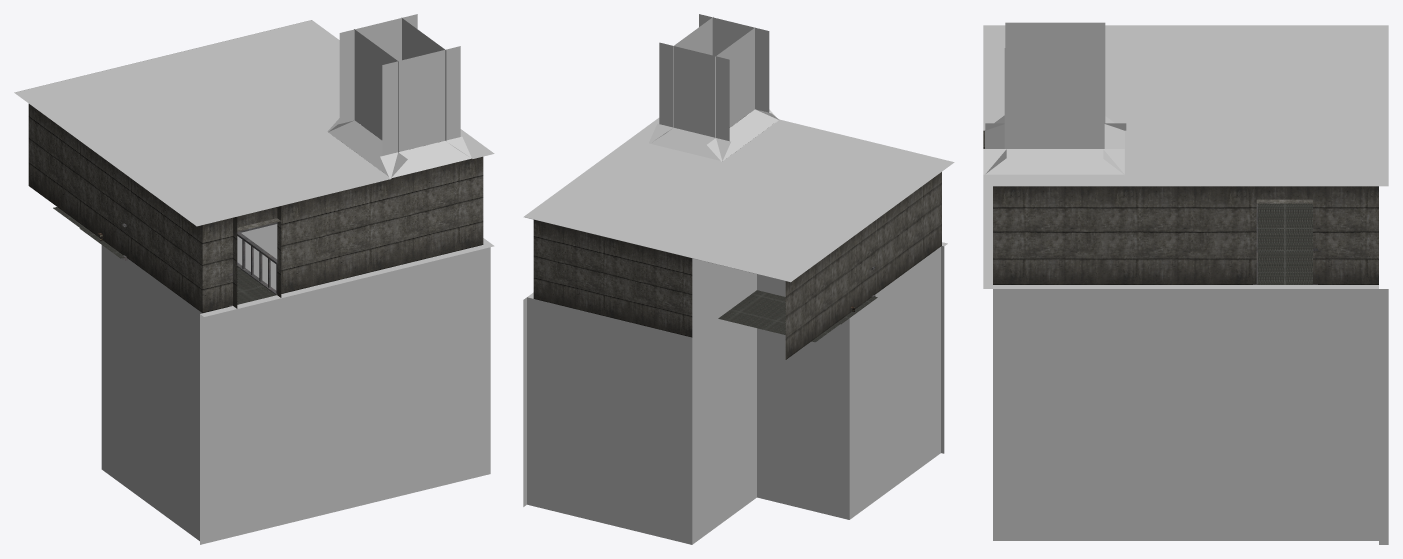
The model's file is Room2C_2_HCZ.fbx.
3 views of the same model, side by side, from view 1: azimuth 30°, elevation 25°; view 2: azimuth 150°, elevation 25°; view 3: azimuth 270°, elevation 25° (orthographic). The views are drawn at different scales.
Parts seen in each view (by area): view 1: concretefloor, concretewall, metal3, dirtymetal; view 2: concretefloor, concretewall, metal3; view 3: concretefloor, concretewall, metal3.
Part boxes in pixels (x1,y1,x2,y2): concretefloor: (14, 14, 494, 544); concretewall: (28, 104, 483, 313); metal3: (53, 207, 276, 304); dirtymetal: (122, 222, 277, 306); concretefloor: (523, 14, 954, 544); concretewall: (533, 122, 941, 359); metal3: (718, 290, 877, 342); concretefloor: (983, 22, 1388, 544); concretewall: (983, 130, 1378, 284); metal3: (1257, 203, 1312, 284).
Size of the model in its own units: 12.96 by 17.84 by 13.76.
